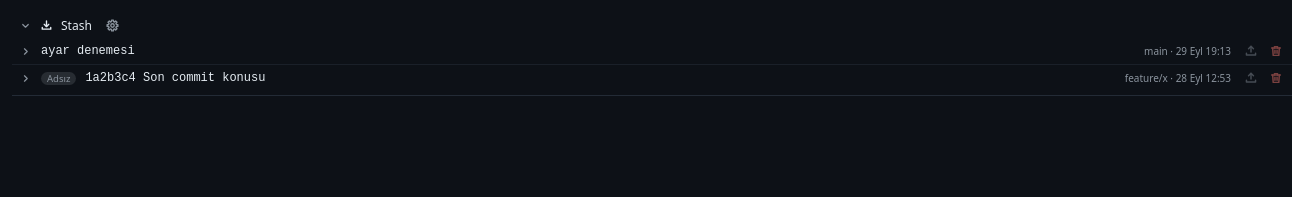
içerik › satır kapatılıp açılınca içerik yine görünüyor
Click the button with class "git-row" that starts with "ayar denemesi".
click(88, 51)  # box [12, 38, 1239, 64]
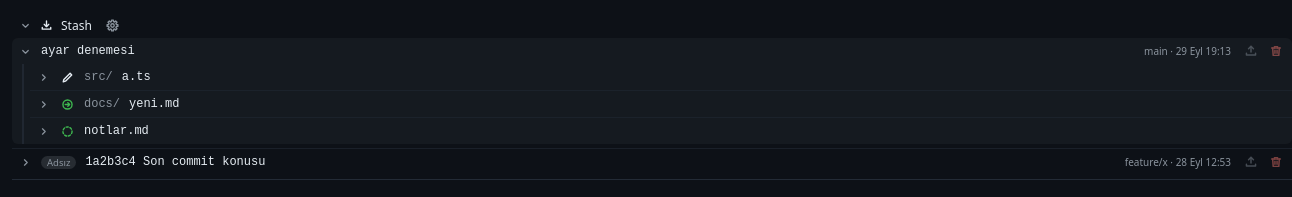
Click the button with class "git-row" that starts with "ayar denemesi".
click(88, 51)  # box [12, 38, 1239, 64]
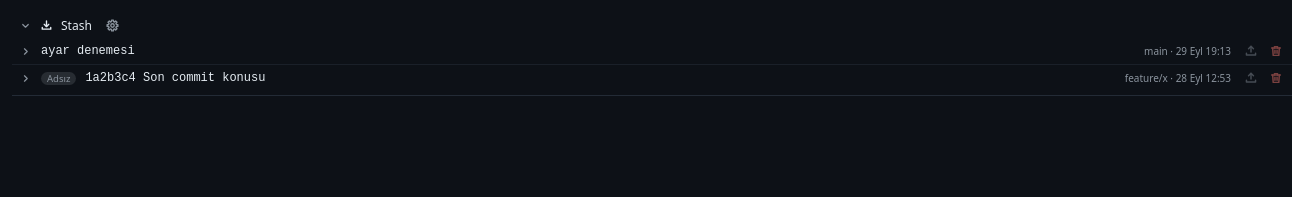
Now the element with class "stash-files" is gone
Click the button with class "git-row" that starts with "ayar denemesi".
click(88, 51)  # box [12, 38, 1239, 64]
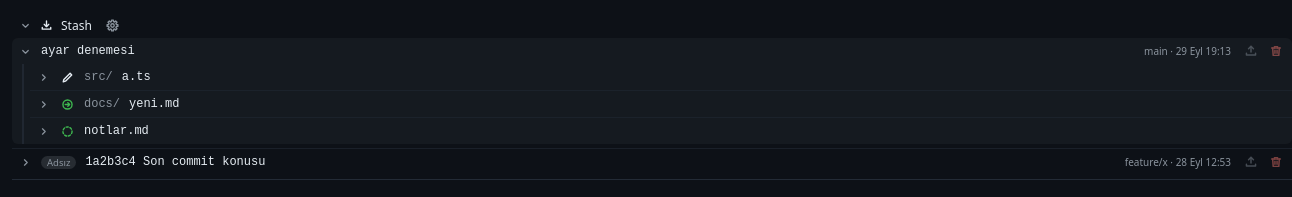
Now the number of elements with class "stash-file" is 3, box [30, 64, 159, 90]; [30, 90, 1291, 117]; [30, 117, 1291, 144]
